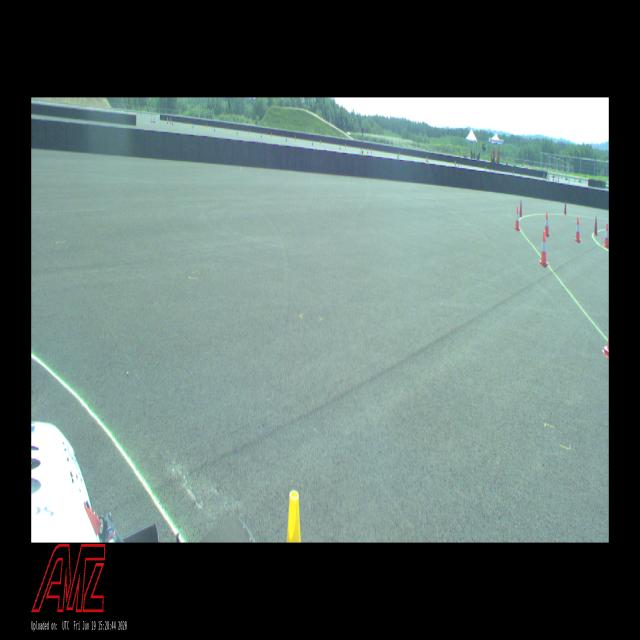orange_cone: (539, 231, 548, 266), (575, 218, 582, 243), (603, 224, 609, 249), (514, 207, 520, 231), (545, 212, 550, 237)
unknown_cone: (594, 216, 597, 235), (519, 200, 522, 217), (564, 200, 566, 214)
